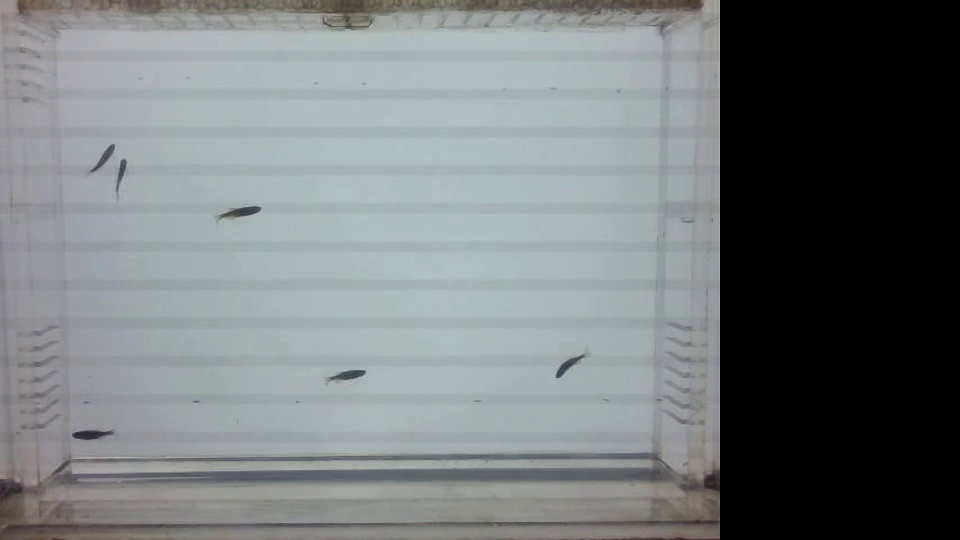fish: (208, 193, 262, 228), (548, 342, 588, 385), (64, 420, 120, 449), (320, 358, 373, 388), (80, 140, 116, 176), (106, 161, 133, 200)
